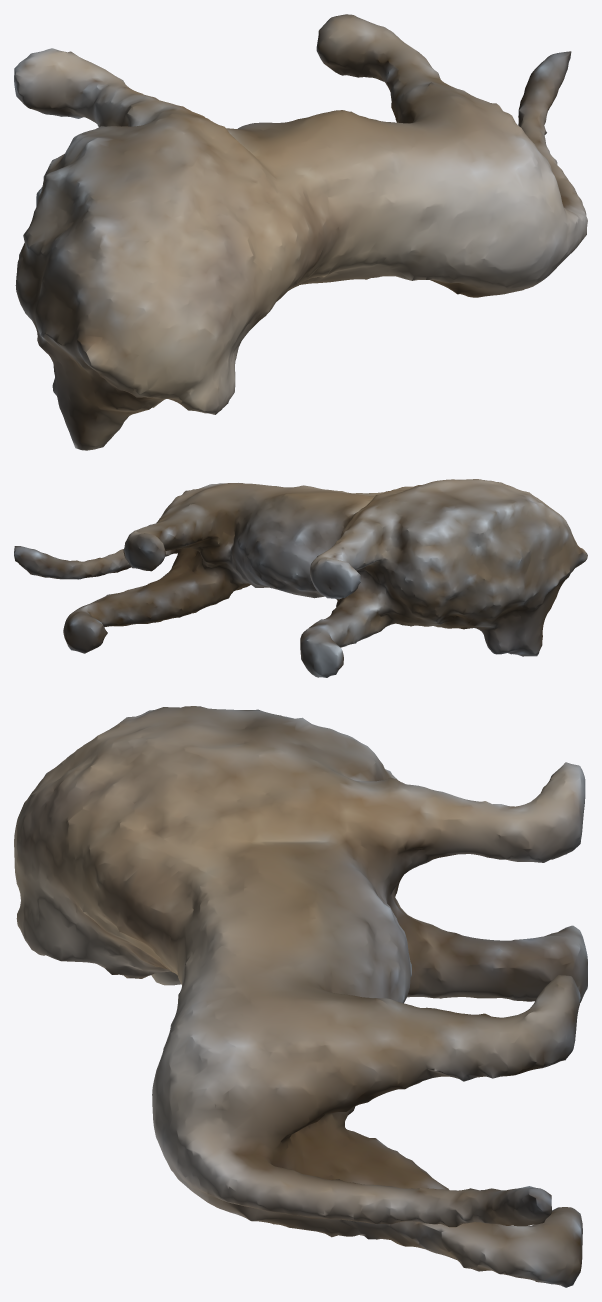
Rendered from lion.glb.
The picture shows the model from 3 angles, top to bottom: view 1: azimuth 30°, elevation 25°; view 2: azimuth 150°, elevation 25°; view 3: azimuth 270°, elevation 25°; orthographic projection. The views are drawn at different scales.
Size of the model in its own units: 0.9944 by 0.355 by 0.6128.
